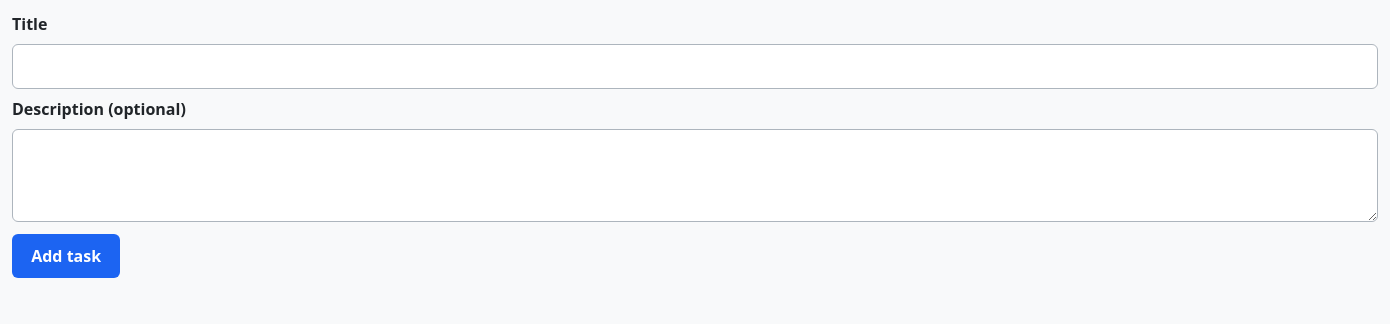
Scenario: TaskForm › server errors › shows the error, keeps the typed text and lets the person try again
Type "Buy milk" into the field labelled "Title" at (695, 67), box [12, 44, 1378, 89]
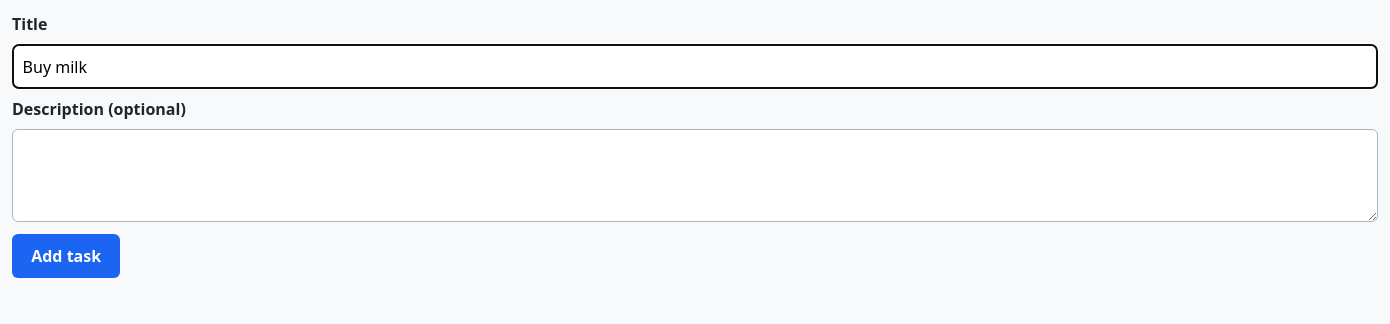
Type "2 litres" into the text box labelled "Description (optional)" at (695, 176), box [12, 129, 1378, 222]
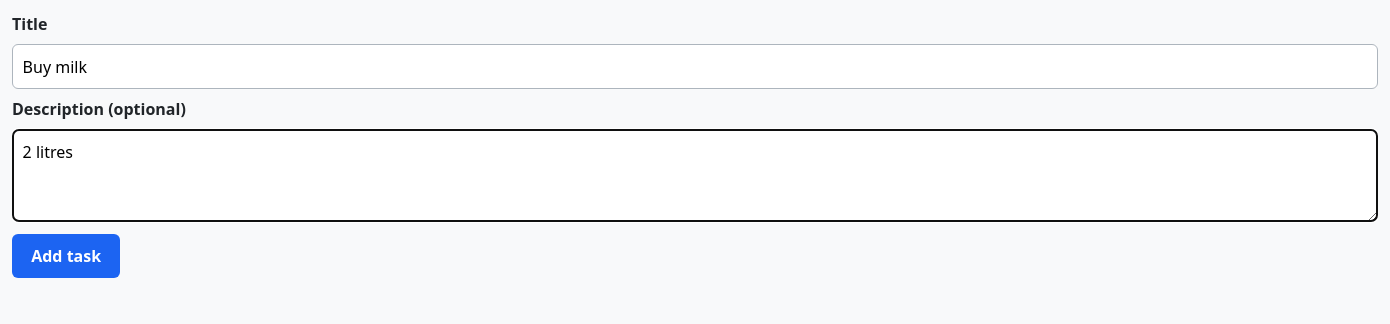
Click the button "Add task" at (66, 256), box [12, 234, 120, 278]
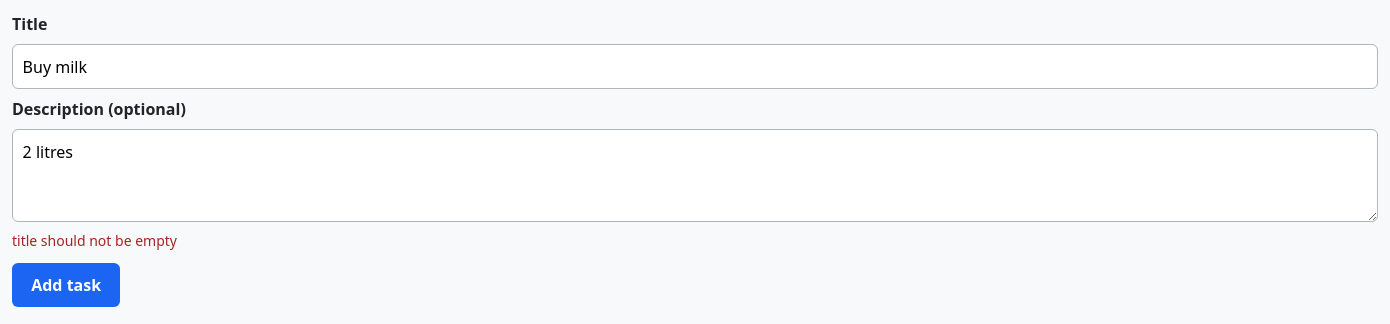
expect the button "Add task" is enabled: met, box [12, 263, 120, 307]
expect the message reads "title should not be empty": met, box [12, 231, 177, 250]
